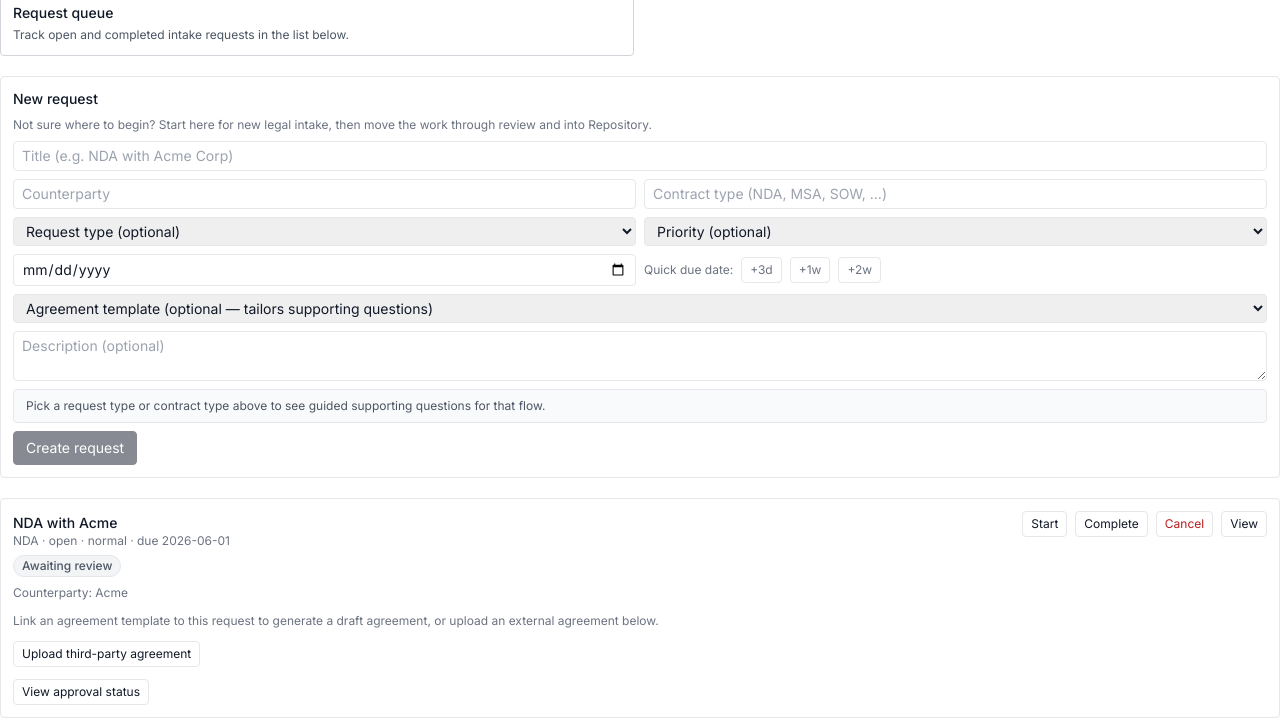
it: RequestsPage › shows a no-approval-required state when nothing applies
The image size is (1280, 718).
(page scrolled)
Expected: the link "NDA with Acme" is shown, [13,514,118,531]
Click the button with test id "request-approval-toggle": point(81, 692) [13,679,149,705]
(page scrolled)
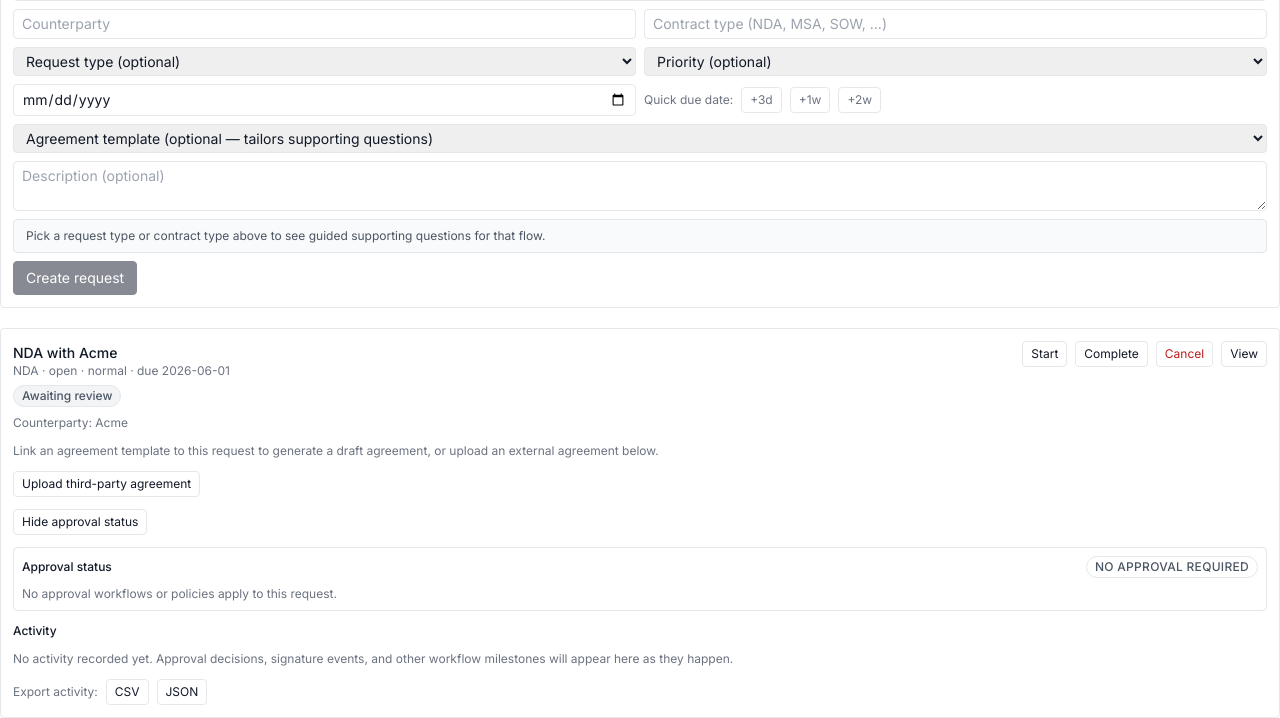
Expected: the text "No approval required" is shown, [1086,556,1258,578]
Expected: the text "No approval workflows or policies apply to this request." is shown, [22,586,337,601]
